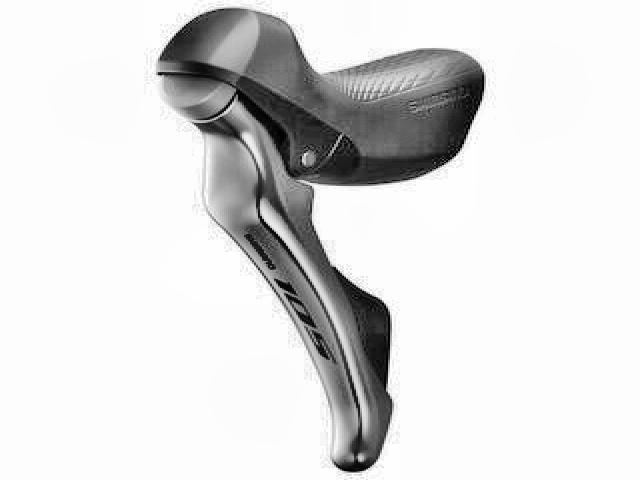sti_shifter: (154, 6, 478, 469)
